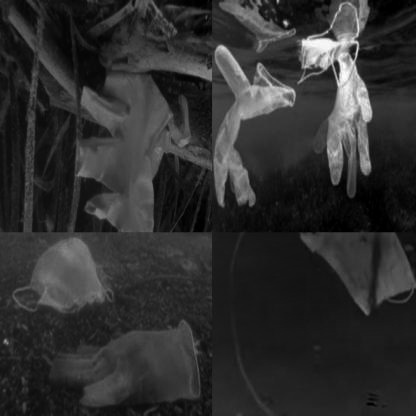Mask: (259, 232, 416, 333), (11, 235, 114, 314), (297, 34, 359, 89)
glove: (76, 50, 192, 231), (47, 316, 202, 408), (215, 44, 296, 210), (311, 63, 374, 204)
